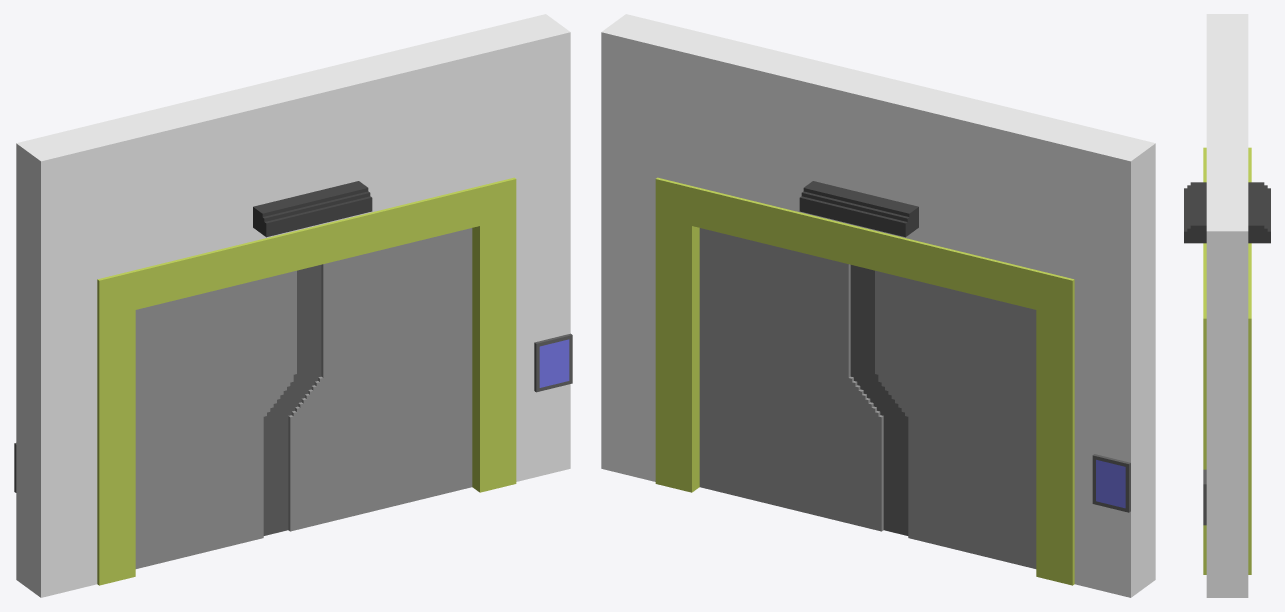
File: Operating_room_Door2-1.fbx
The picture shows the model from 3 angles, left to right: view 1: azimuth 30°, elevation 25°; view 2: azimuth 150°, elevation 25°; view 3: azimuth 270°, elevation 25°; orthographic projection. The views are drawn at different scales.
Parts seen in each view (by area): view 1: Operating room Door2-1.002, Operating room Door2-1.008, Operating room Door2-1.001, Operating room Door2-1.000, Operating room Door2-1.009, Operating room Door2-1.010; view 2: Operating room Door2-1.002, Operating room Door2-1.008, Operating room Door2-1.001, Operating room Door2-1.000, Operating room Door2-1.009, Operating room Door2-1.007; view 3: Operating room Door2-1.009, Operating room Door2-1.002, Operating room Door2-1.000.
Boxes of the visible parts, box(x1,y1,x2,y2) form: Operating room Door2-1.002: box(73, 28, 516, 585); Operating room Door2-1.008: box(275, 228, 472, 533); Operating room Door2-1.001: box(135, 268, 308, 568); Operating room Door2-1.000: box(14, 129, 97, 597); Operating room Door2-1.009: box(490, 14, 572, 481); Operating room Door2-1.010: box(539, 339, 569, 387); Operating room Door2-1.002: box(655, 28, 1098, 585); Operating room Door2-1.008: box(699, 228, 896, 533); Operating room Door2-1.001: box(863, 268, 1036, 568); Operating room Door2-1.000: box(1074, 129, 1155, 597); Operating room Door2-1.009: box(601, 14, 681, 481); Operating room Door2-1.007: box(1096, 459, 1125, 508); Operating room Door2-1.009: box(1203, 208, 1248, 597); Operating room Door2-1.002: box(1184, 37, 1270, 574); Operating room Door2-1.000: box(1206, 14, 1248, 36).
Size of the model in its own units: 1600 by 1260 by 270.
